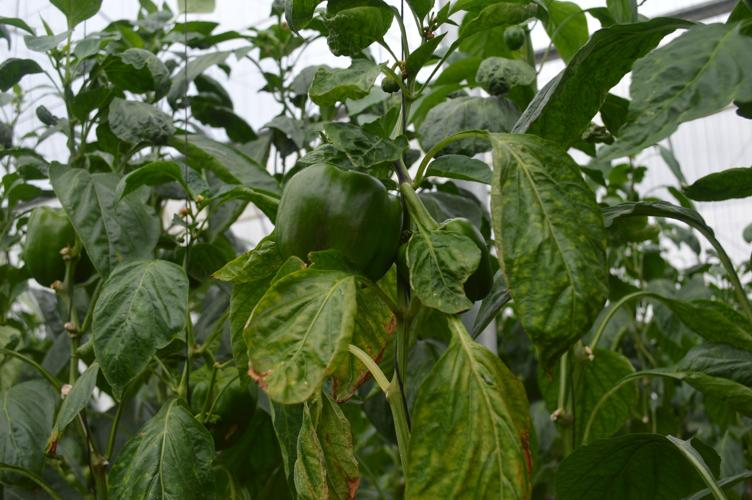BellPepper: (268, 158, 405, 289), (166, 361, 261, 456), (406, 222, 504, 313), (18, 197, 99, 294)
